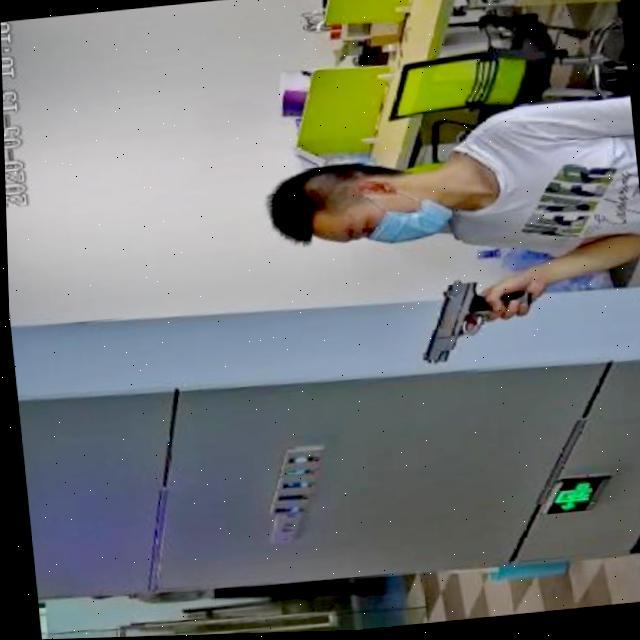gun: (394, 268, 532, 376)
